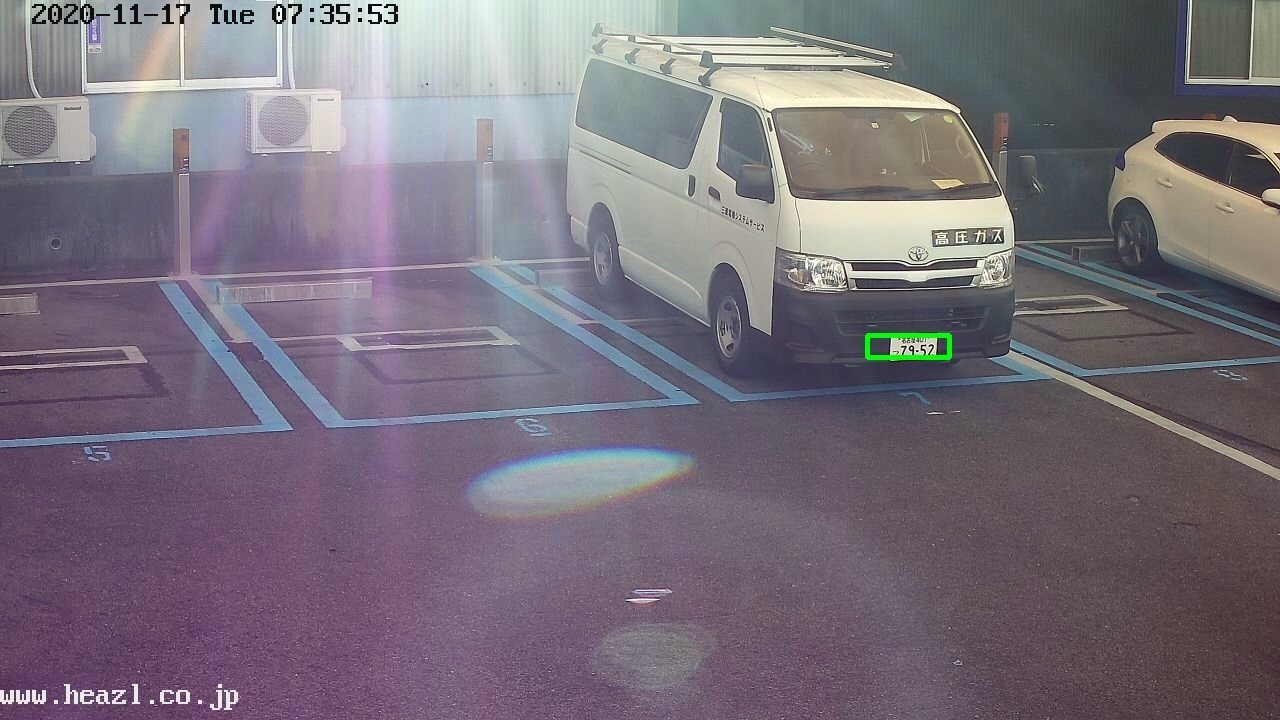number_plate: (889, 333, 939, 356)
